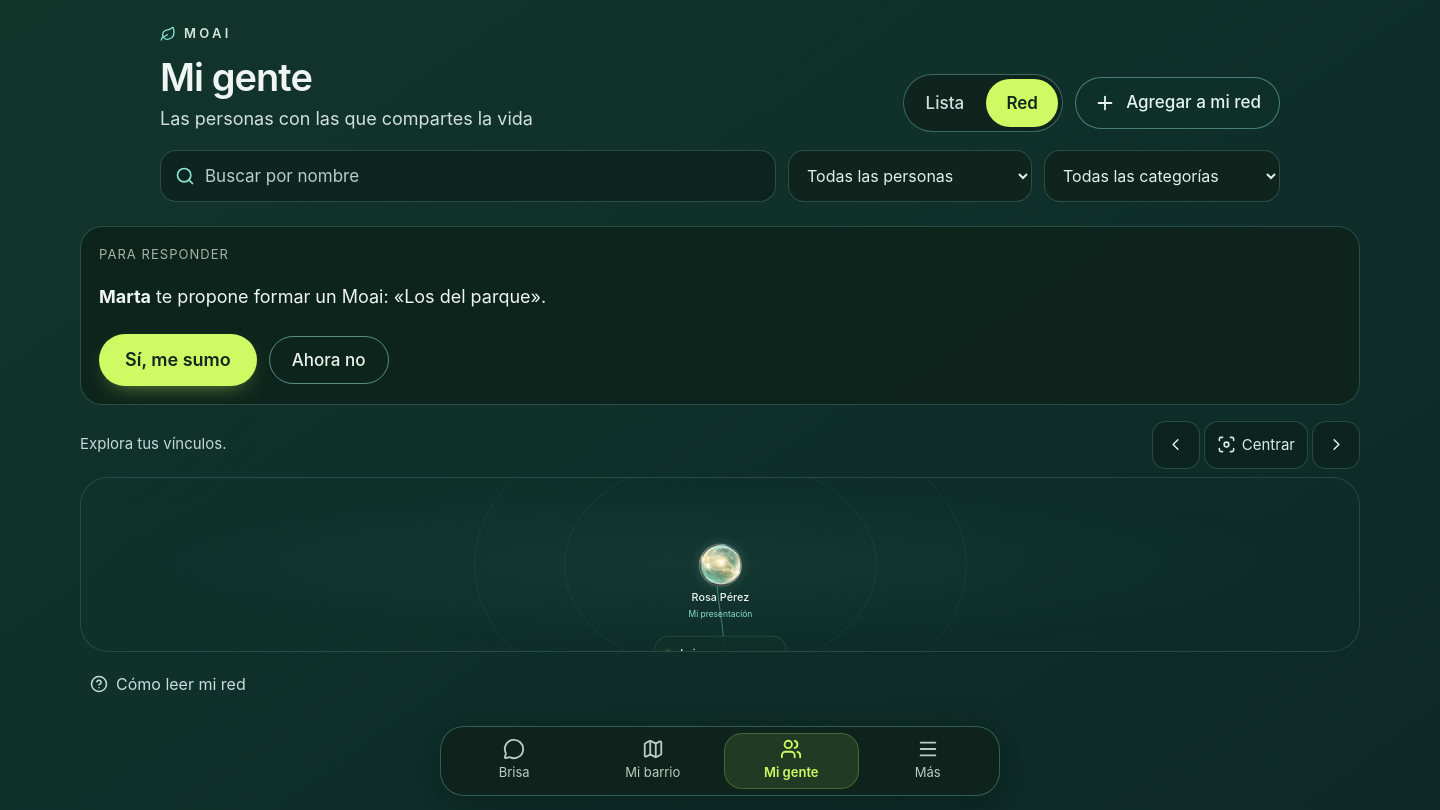
Mi gente (con Mis lazos) › lo que espera respuesta llega de a una cosa
(page scrolled)
Check: the text "Marta te propone formar un Moai: «Los del parque»." is shown, box [99,286,546,307]
Check: the text "¿Te viste con…?" is not shown
Click the button "Sí, me sumo" at (178, 360), box [99,334,257,386]
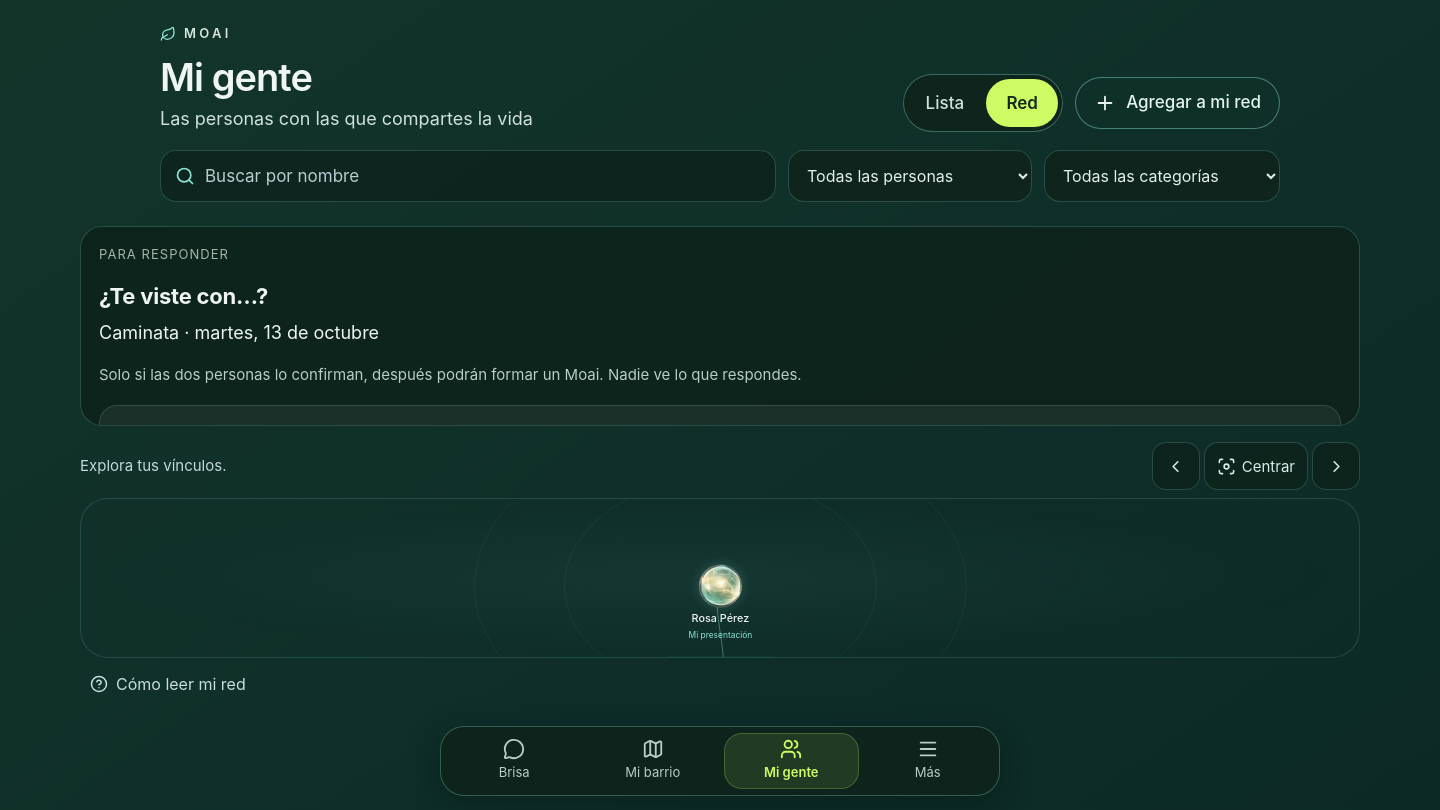
Check: the heading "¿Te viste con…?" is shown, box [99,283,268,309]
